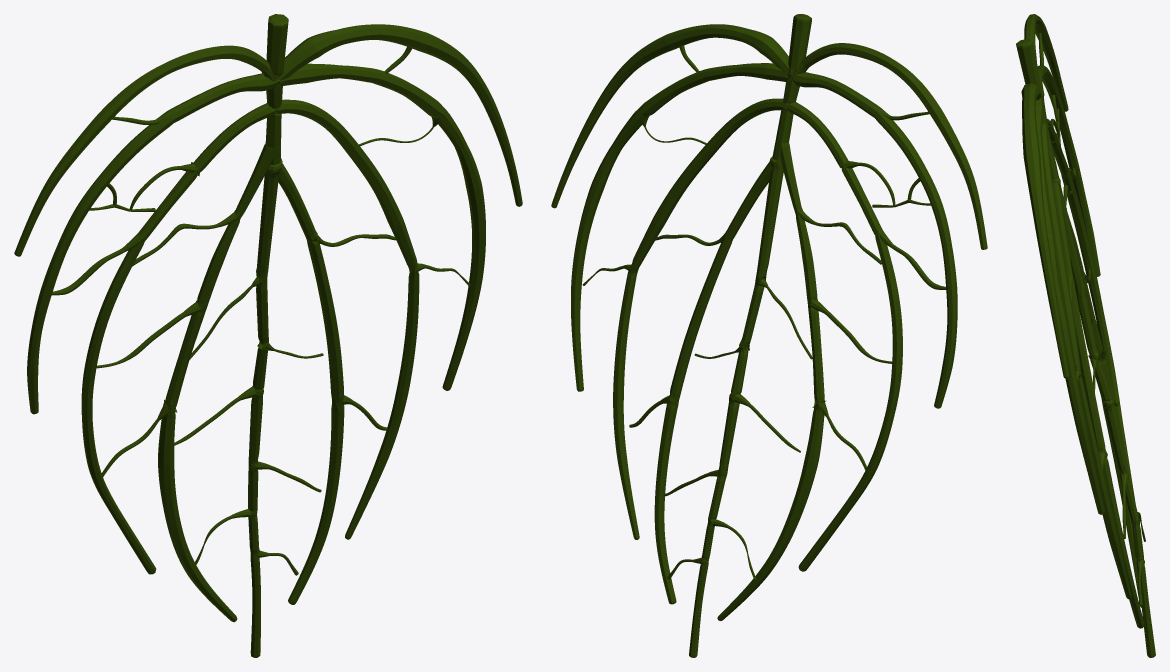
Rendered from Tulang_daun_Melengkung.fbx.
The picture shows the model from 3 angles, left to right: view 1: azimuth 30°, elevation 25°; view 2: azimuth 150°, elevation 25°; view 3: azimuth 270°, elevation 25°; orthographic projection. The views are drawn at different scales.
Visible parts, largest first — view 1: Cube; view 2: Cube; view 3: Cube.
Boxes of the visible parts, x1=… form: Cube: x1=14, y1=14, x2=522, y2=657; Cube: x1=551, y1=14, x2=987, y2=657; Cube: x1=1016, y1=14, x2=1155, y2=657.
Size of the model in its own units: 418 by 557 by 119.
